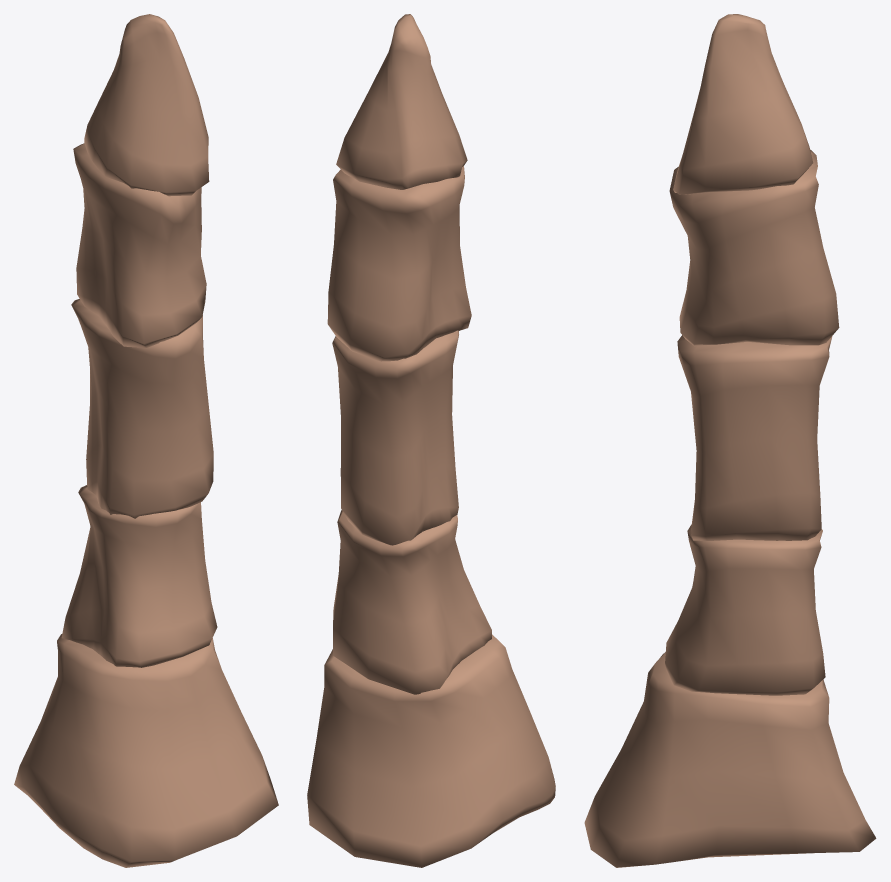
Rendered from obs_stal_down03.fbx.
3 renders of one model, left to right at view 1: azimuth 30°, elevation 25°; view 2: azimuth 150°, elevation 25°; view 3: azimuth 270°, elevation 25°, orthographic. The views are drawn at different scales.
Visible parts, largest first — view 1: stal.099; view 2: stal.099; view 3: stal.099.
Boxes of the visible parts, left/top/right/bottom form: stal.099: left=14, top=14, right=278, bottom=867; stal.099: left=307, top=14, right=555, bottom=867; stal.099: left=584, top=14, right=876, bottom=867.
Size of the model in its own units: 0.2376 by 0.8951 by 0.2816.
